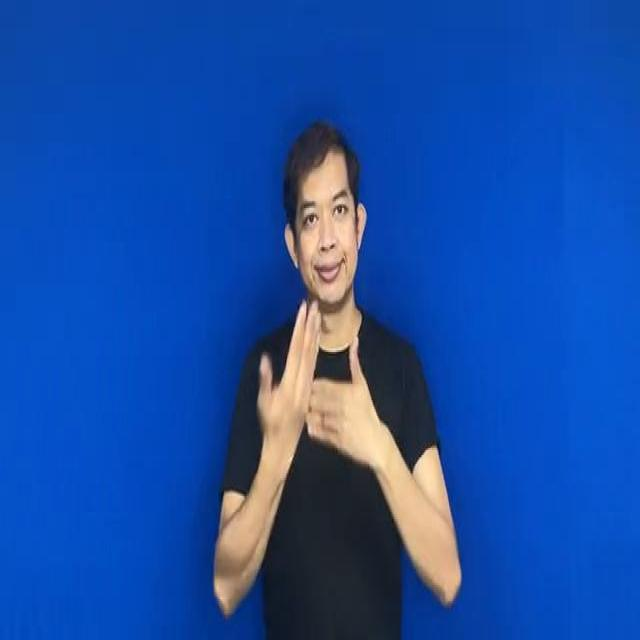bread: (259, 300, 394, 492)
